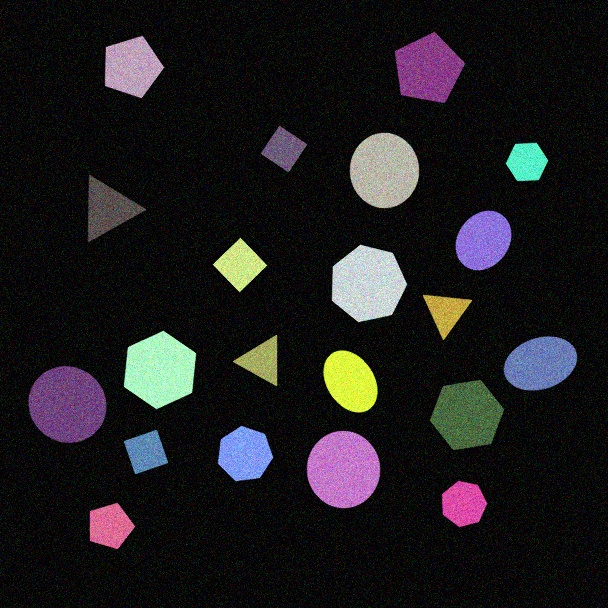Circulo: (28, 365, 107, 444), (306, 430, 381, 509), (349, 132, 420, 209)
Elipse: (503, 336, 578, 391), (455, 210, 512, 271), (323, 350, 378, 413)
Heptagono: (331, 244, 408, 323), (217, 425, 274, 482), (441, 480, 488, 528)
Hexagono: (123, 330, 197, 410), (429, 379, 505, 451), (505, 142, 549, 182)
Pentagono: (394, 31, 466, 104), (104, 35, 165, 99), (89, 502, 136, 550)
Quadrado: (212, 237, 268, 293), (260, 125, 308, 173), (123, 429, 169, 475)
Triangulo: (87, 174, 147, 243), (422, 294, 473, 341), (233, 334, 278, 387)
